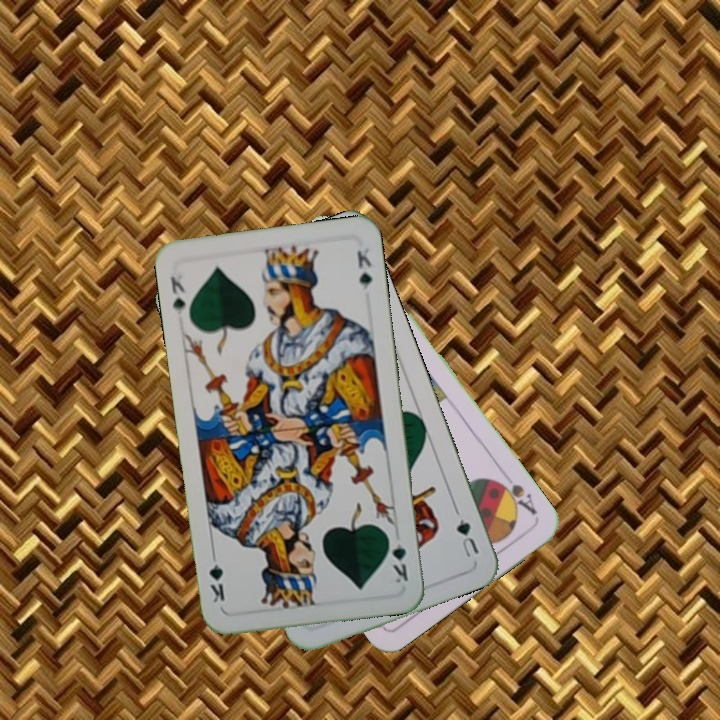GK: (384, 529, 411, 586), (166, 272, 188, 318)
GU: (452, 514, 482, 560)
SA: (491, 468, 540, 518)
